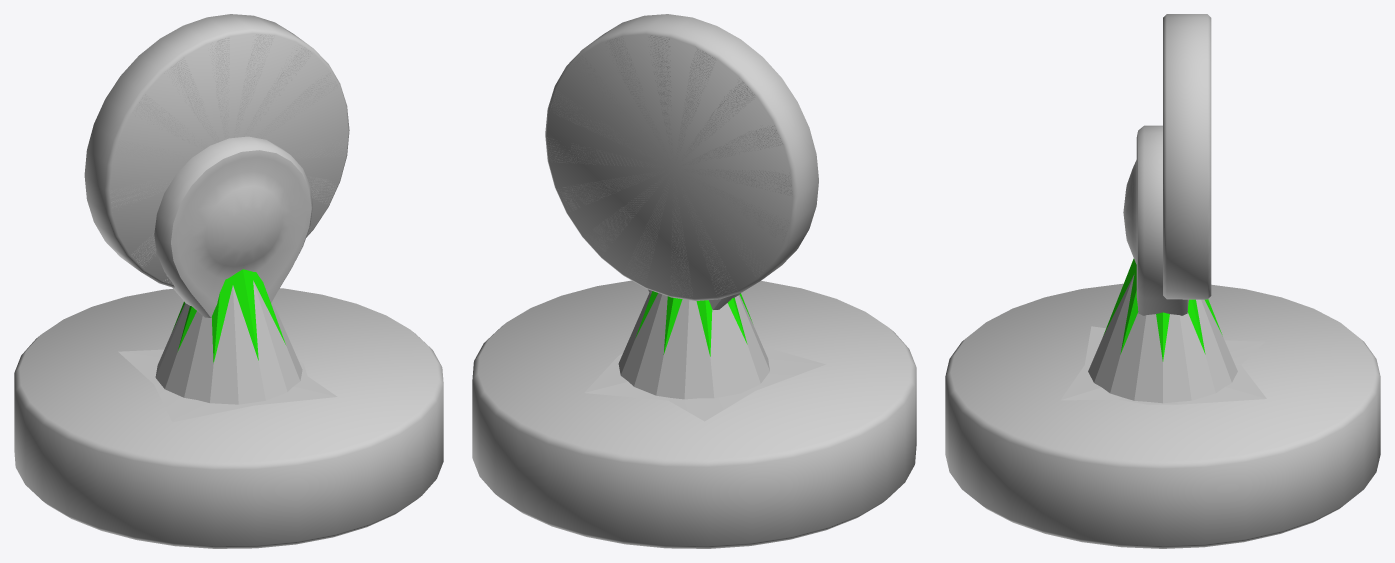
Rendered from Platform_v4.FBX.
3 views of the same model, side by side, from view 1: azimuth 30°, elevation 25°; view 2: azimuth 150°, elevation 25°; view 3: azimuth 270°, elevation 25° (orthographic). The views are drawn at different scales.
Parts seen in each view (by area): view 1: platform, Coin, CheckPoint_Pin, spike, Coin_Tibi, platform_lod2_2sided, platform_lod2_glass2_part10, platform_lod2_glass2_part11; view 2: platform, Coin, spike, Coin_Tibi, platform_lod2_2sided, platform_lod2_glass2_part10, platform_lod2_glass2_part11, platform_lod2_glass2_part9, platform_lod2_glass2_part8; view 3: platform, Coin, spike, CheckPoint_Pin, platform_lod2_2sided, platform_lod2_glass2_part10, platform_lod2_glass2_part8, platform_lod2_glass2_part11, platform_lod2_glass2_part9.
Boxes of the visible parts, bbox=[...] form: platform: bbox=[14, 288, 443, 548]; Coin: bbox=[84, 14, 349, 288]; CheckPoint_Pin: bbox=[154, 136, 312, 317]; spike: bbox=[155, 280, 302, 404]; Coin_Tibi: bbox=[110, 34, 346, 284]; platform_lod2_2sided: bbox=[172, 269, 285, 362]; platform_lod2_glass2_part10: bbox=[154, 383, 336, 422]; platform_lod2_glass2_part11: bbox=[118, 349, 163, 384]; platform: bbox=[472, 280, 916, 548]; Coin: bbox=[545, 14, 818, 300]; spike: bbox=[618, 293, 769, 399]; Coin_Tibi: bbox=[547, 35, 792, 298]; platform_lod2_2sided: bbox=[635, 291, 752, 356]; platform_lod2_glass2_part10: bbox=[751, 346, 825, 390]; platform_lod2_glass2_part11: bbox=[668, 389, 755, 421]; platform_lod2_glass2_part9: bbox=[585, 382, 669, 400]; platform_lod2_glass2_part8: bbox=[584, 357, 628, 392]; platform: bbox=[945, 283, 1380, 548]; Coin: bbox=[1163, 14, 1211, 299]; spike: bbox=[1088, 274, 1237, 403]; CheckPoint_Pin: bbox=[1123, 125, 1188, 315]; platform_lod2_2sided: bbox=[1103, 258, 1222, 361]; platform_lod2_glass2_part10: bbox=[1060, 326, 1105, 400]; platform_lod2_glass2_part8: bbox=[1177, 387, 1266, 404]; platform_lod2_glass2_part11: bbox=[1224, 340, 1264, 365]; platform_lod2_glass2_part9: bbox=[1225, 365, 1266, 398].
Size of what is drawn, in the model's own units: 180 by 180 by 197.
